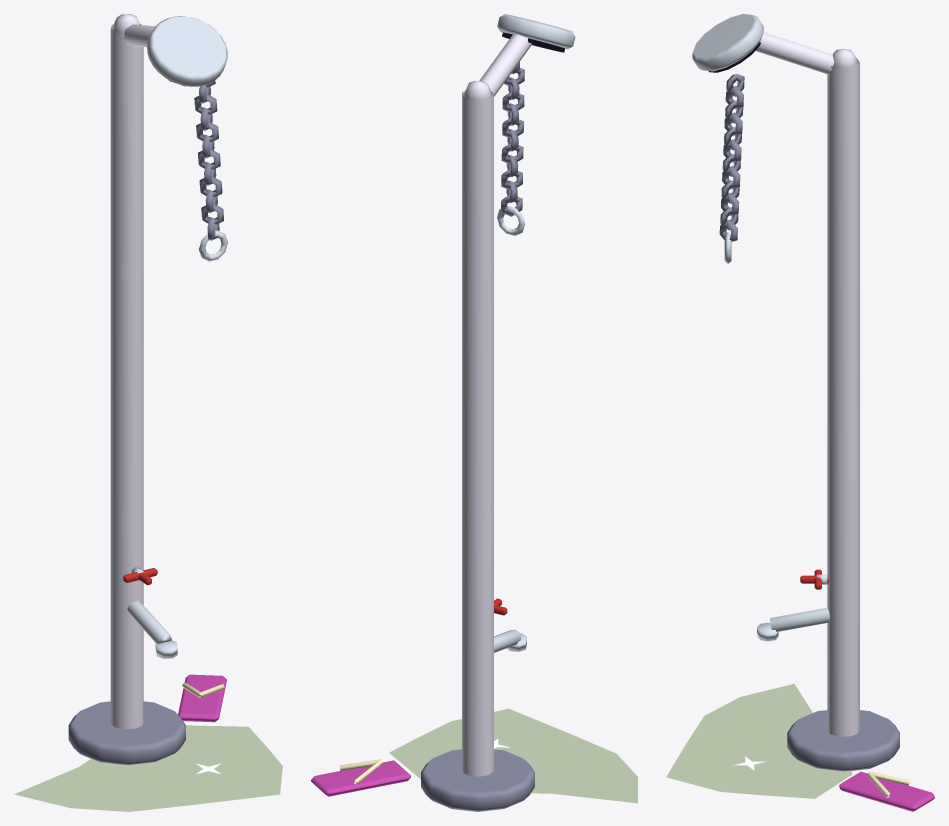
The model's file is beach_shower.glb.
3 views of the same model, side by side, from view 1: azimuth 30°, elevation 25°; view 2: azimuth 150°, elevation 25°; view 3: azimuth 270°, elevation 25° (orthographic). The views are drawn at different scales.
Visible parts, largest first — view 1: Shower; view 2: Shower; view 3: Shower.
Boxes of the visible parts, x1=… form: Shower: x1=14, y1=14, x2=282, y2=811; Shower: x1=311, y1=14, x2=637, y2=811; Shower: x1=666, y1=14, x2=934, y2=811.
Bounding box in the file's own units: 0.8408 × 2.23 × 0.7438.
